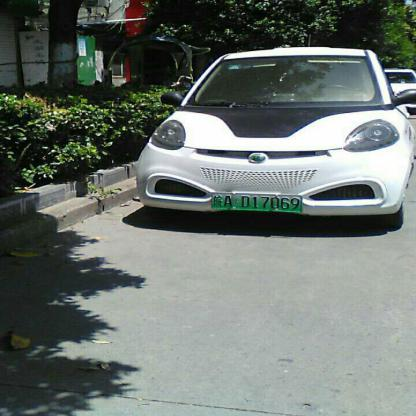lp: (210, 193, 302, 212)
